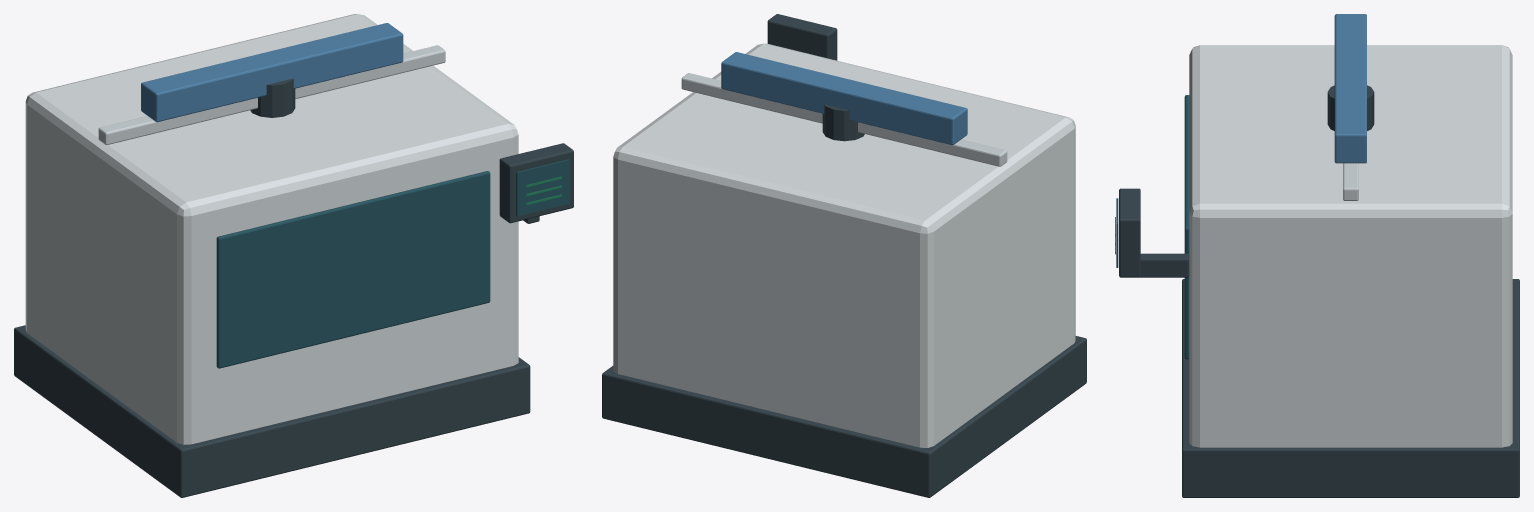
File: station-2.glb
3 views of the same model, side by side, from view 1: azimuth 30°, elevation 25°; view 2: azimuth 150°, elevation 25°; view 3: azimuth 270°, elevation 25° (orthographic). The views are drawn at different scales.
Visible parts, largest first — view 1: Machine chassis; view 2: Machine chassis; view 3: Machine chassis.
Part boxes in pixels (x1,y1,x2,y2): Machine chassis: (14, 14, 573, 497); Machine chassis: (602, 14, 1086, 497); Machine chassis: (1115, 14, 1519, 497).
Size of the model in its own units: 2.34 by 2.11 by 2.25.
